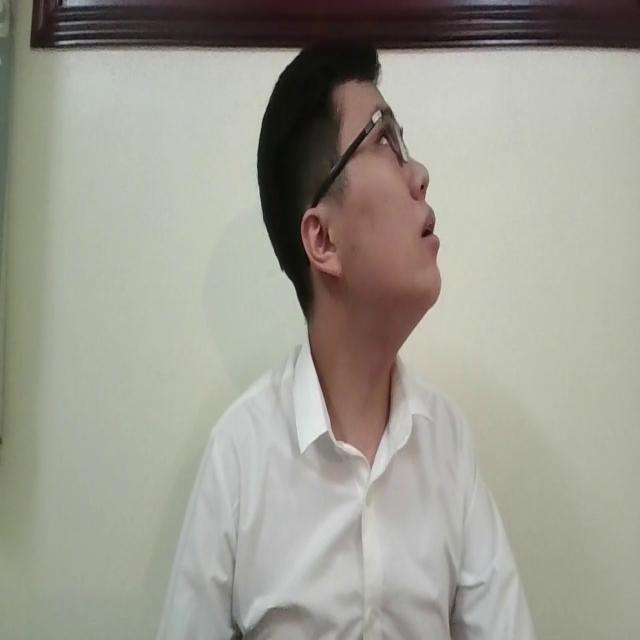student: (148, 28, 538, 640)
